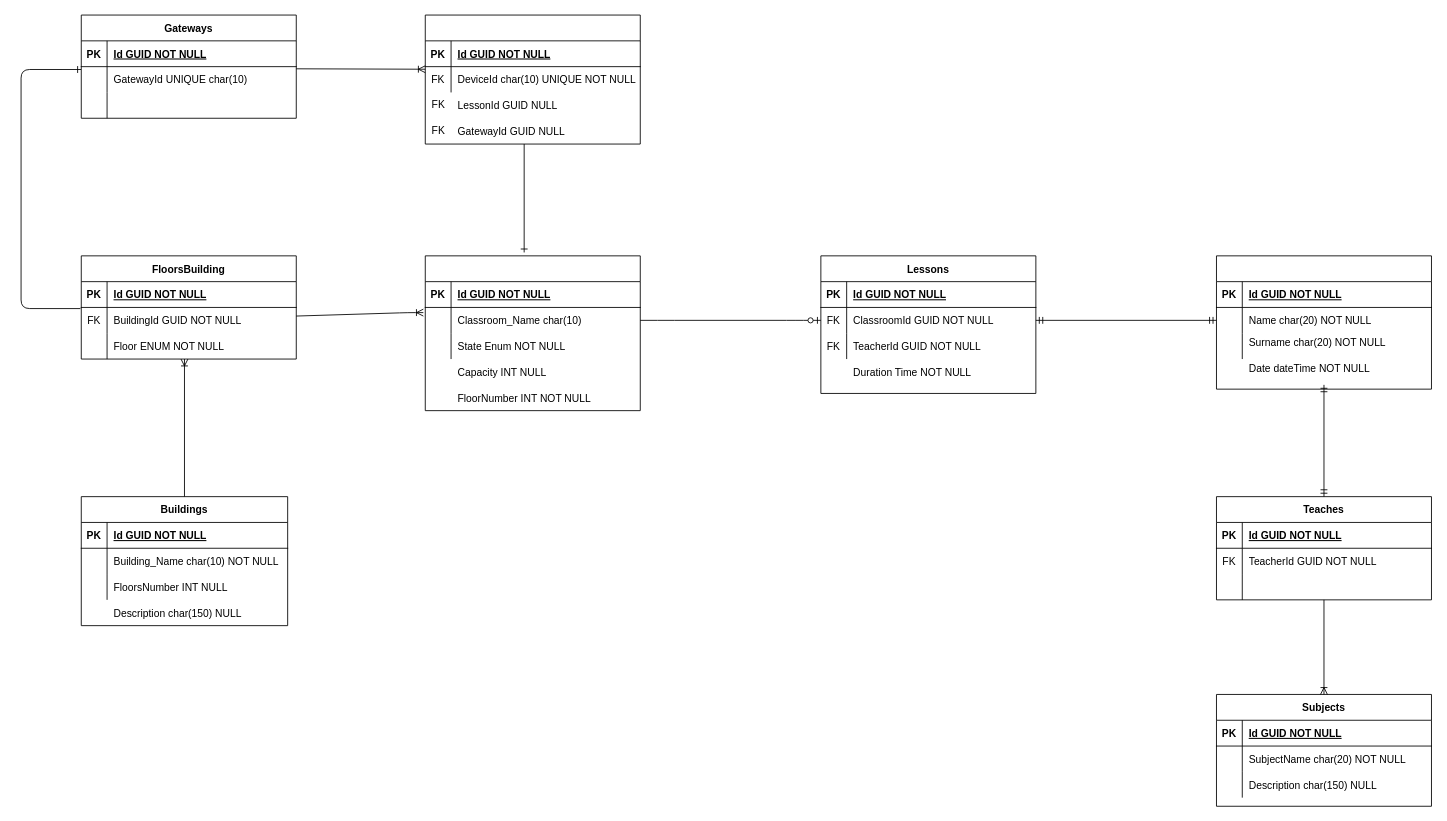
This 1447x821 diagram has some shape labels left out. Each missing label, with the box of its shape:
Classrooms: (424, 255, 640, 411)
Microcontrollers: (424, 14, 640, 144)
Teachers: (1216, 255, 1431, 389)
